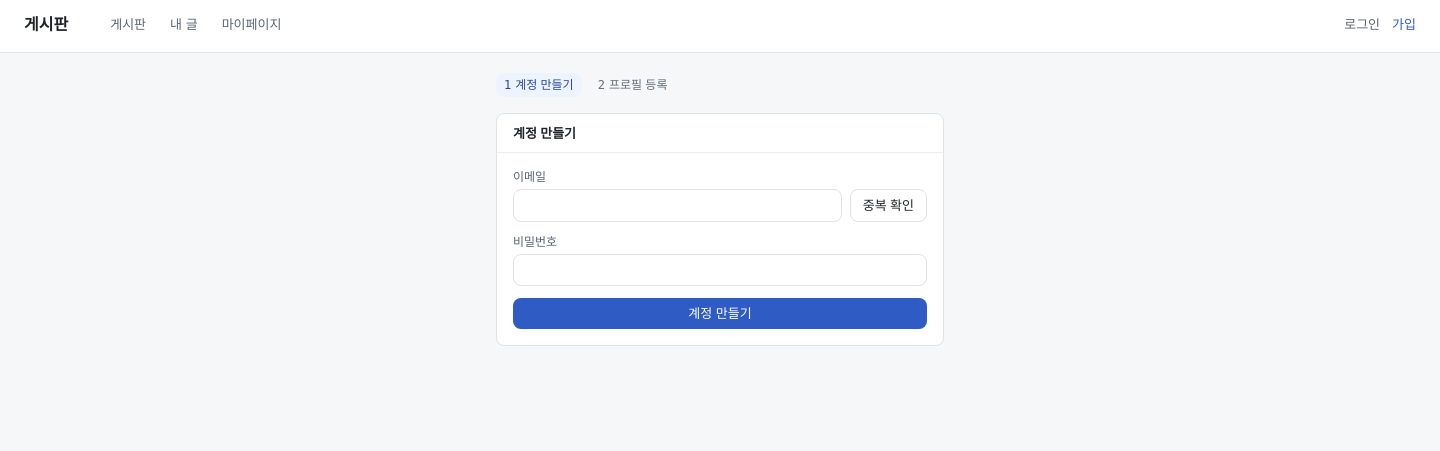
가입 › 계정 생성이 실패하면 — 그 화면에 남고 로그인하지 않는다. 필드 오류는 입력칸 옆이다
The width and height of the screenshot is (1440, 451).
Type "new@example.com" into the field labelled "이메일" at (677, 205), box [513, 189, 842, 222]
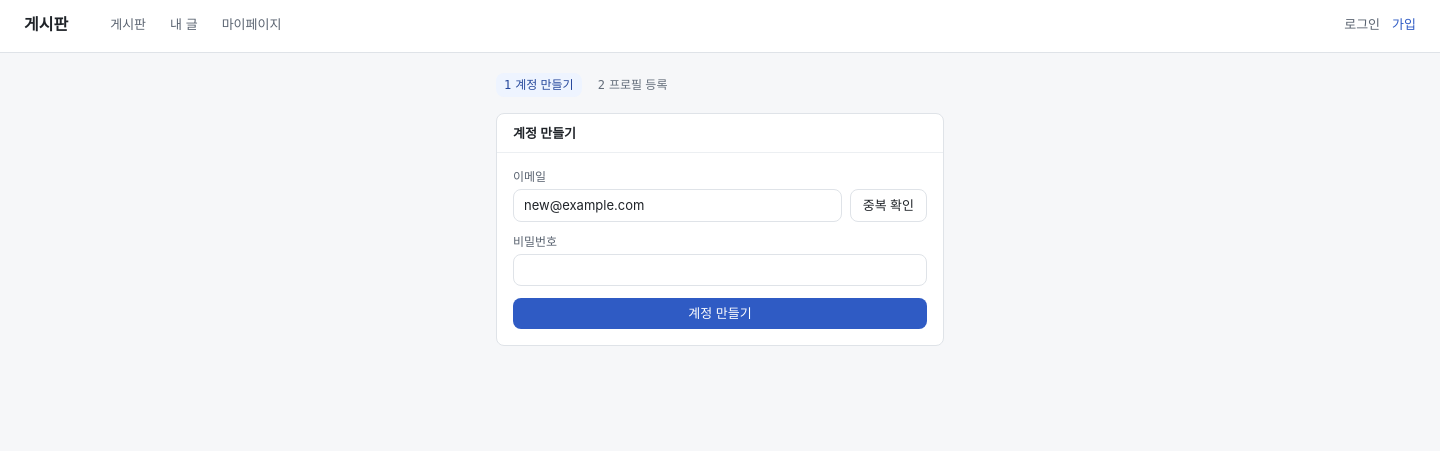
Type "Signup-Passw0rd!" into the password field labelled "비밀번호" at (720, 270), box [513, 254, 927, 286]
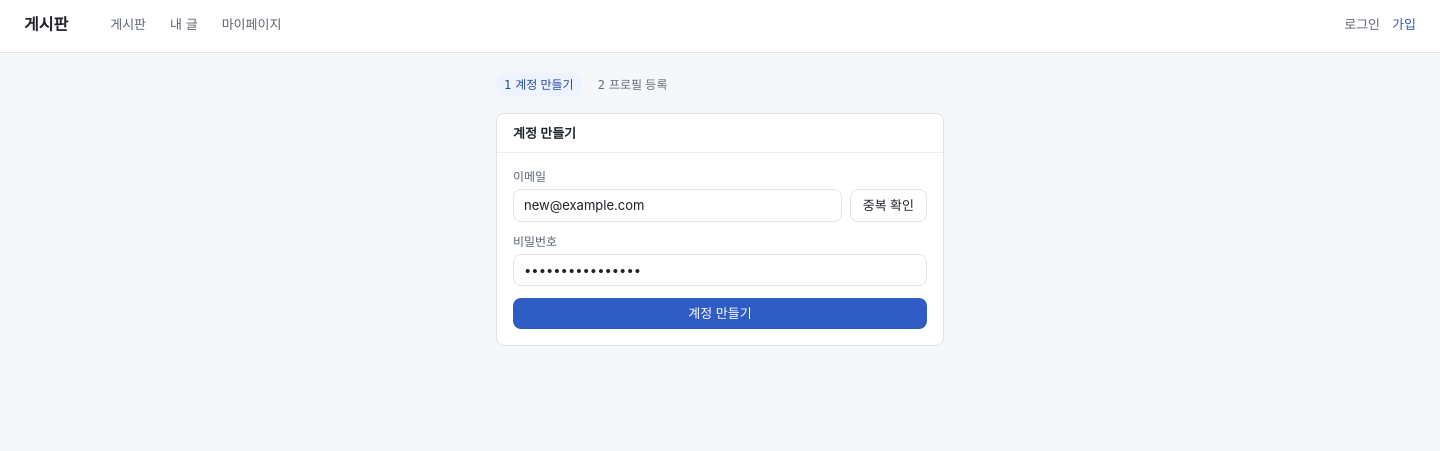
Submit the form, box [513, 169, 927, 329]
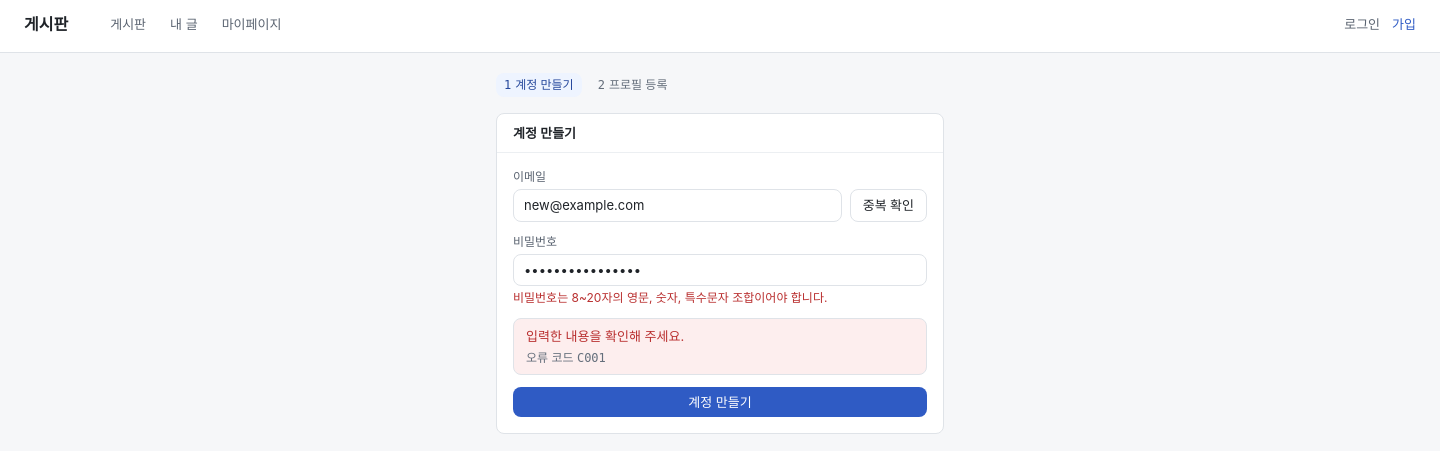
Now the element that starts with "계정 만들기" shows "비밀번호는 8~20자의 영문, 숫자, 특수문자 조합이어야 합니다.", box [513, 290, 827, 305]
